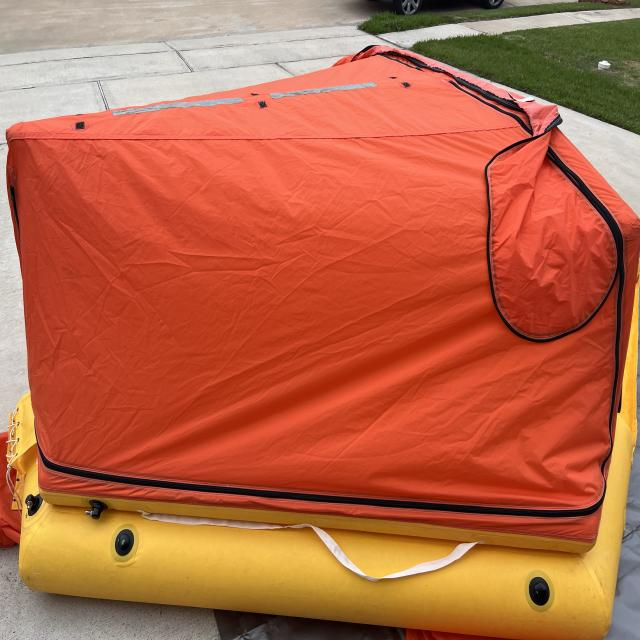Multi-person_life_raft: (0, 44, 640, 639)
